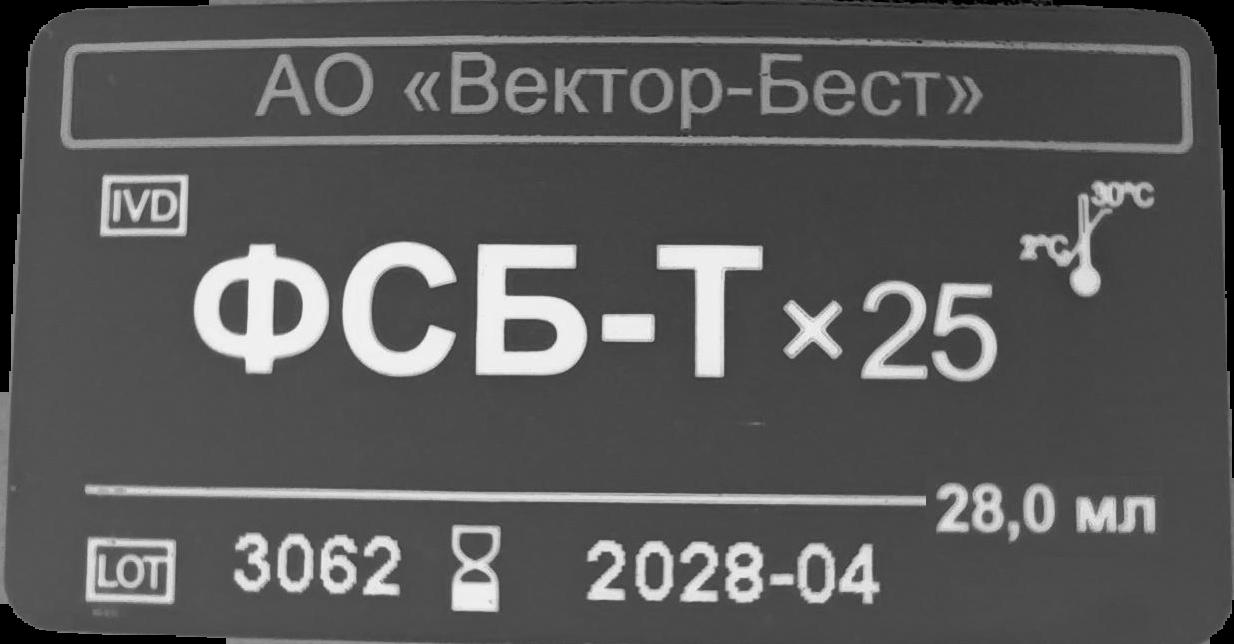something: (1016, 182, 1161, 300), (86, 535, 180, 606), (446, 523, 508, 615), (100, 173, 185, 238)
text: (186, 235, 1005, 391), (253, 48, 985, 134), (581, 536, 883, 613), (934, 478, 1163, 543), (229, 529, 406, 602)
